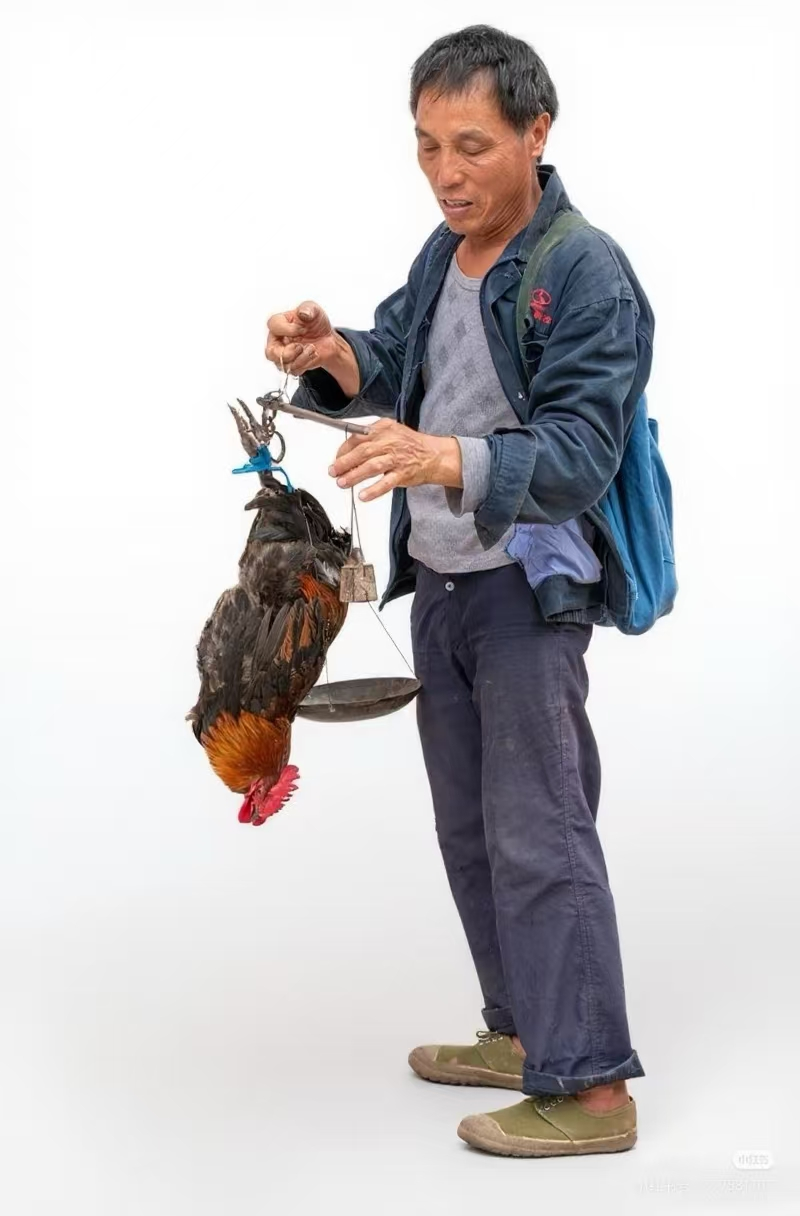up: (216, 15, 705, 1165)
